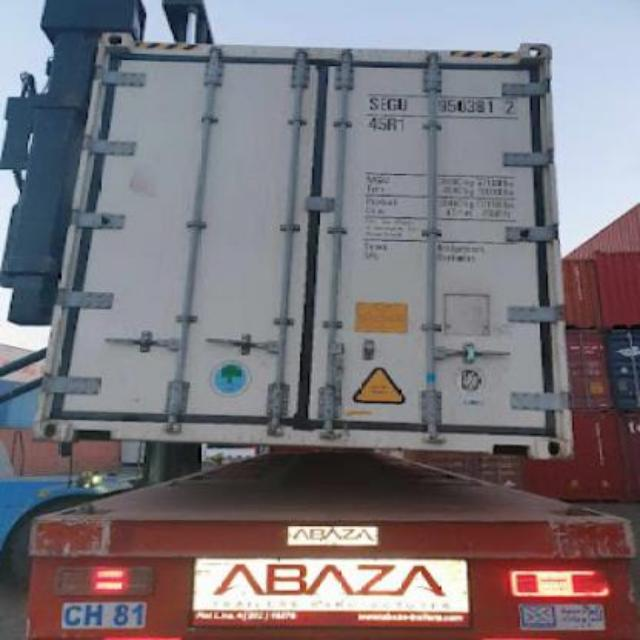0: (456, 92, 466, 116)
2: (500, 94, 516, 116)
3: (466, 95, 476, 116)
4: (484, 95, 496, 119)
5: (446, 94, 456, 116)
8: (474, 86, 484, 118)
9: (436, 94, 446, 116)
E: (376, 92, 388, 115)
G: (386, 94, 398, 116)
S: (366, 91, 378, 112)
U: (398, 94, 408, 116)
